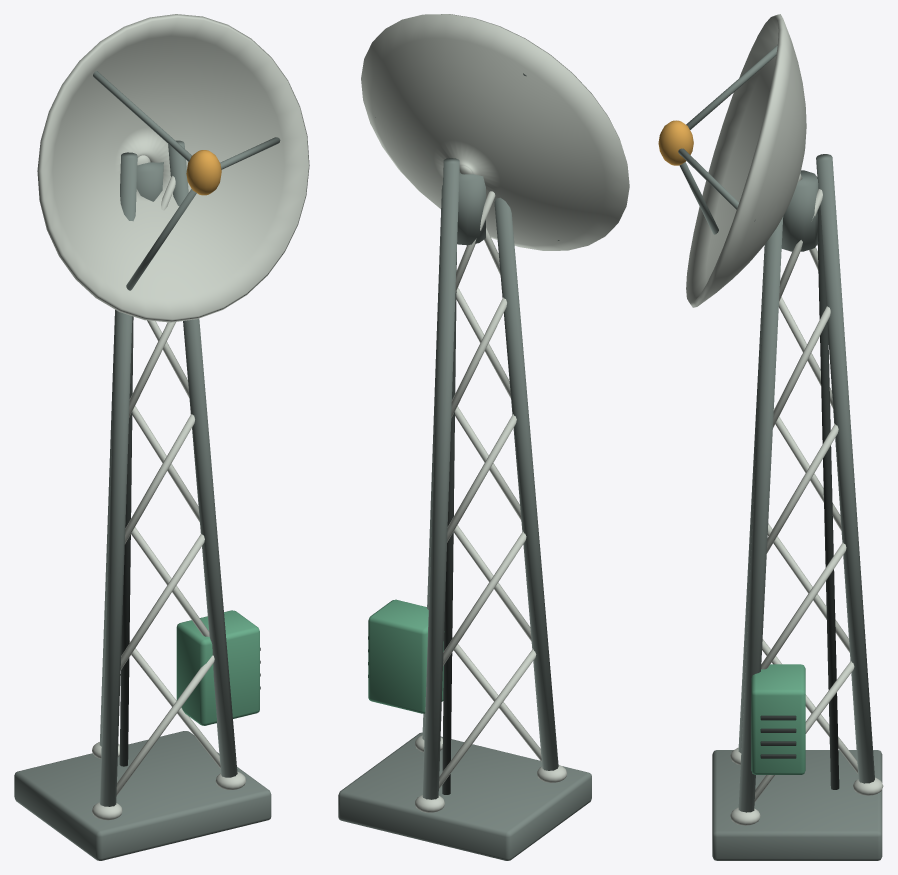
The model's file is relay_antenna.glb.
3 views of the same model, side by side, from view 1: azimuth 30°, elevation 25°; view 2: azimuth 150°, elevation 25°; view 3: azimuth 270°, elevation 25° (orthographic).
Parts seen in each view (by area): view 1: Concrete foot; view 2: Concrete foot; view 3: Concrete foot.
Part boxes in pixels (x1,y1,x2,y2): Concrete foot: [14, 14, 309, 860]; Concrete foot: [338, 14, 629, 860]; Concrete foot: [658, 14, 883, 860].
Bounding box in the file's own units: 1.3 × 3.7 × 0.9536.
